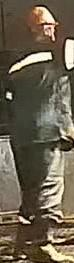helmet: (24, 5, 59, 27)
vest: (6, 43, 74, 150)
